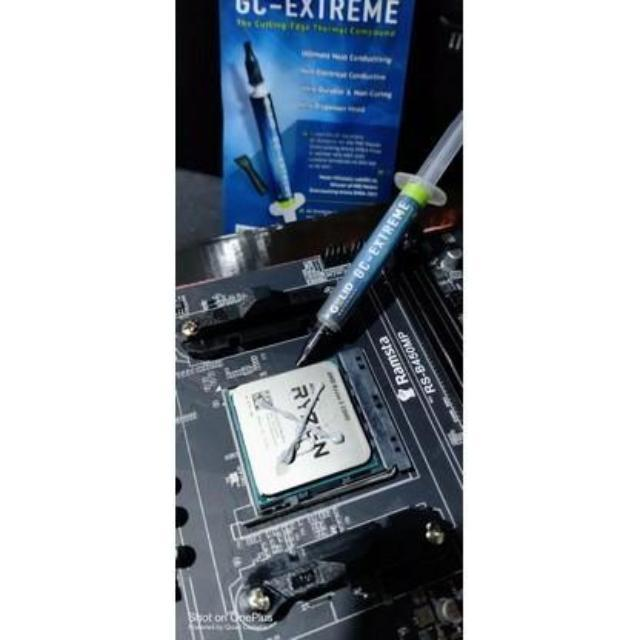CPU: (222, 362, 372, 506)
